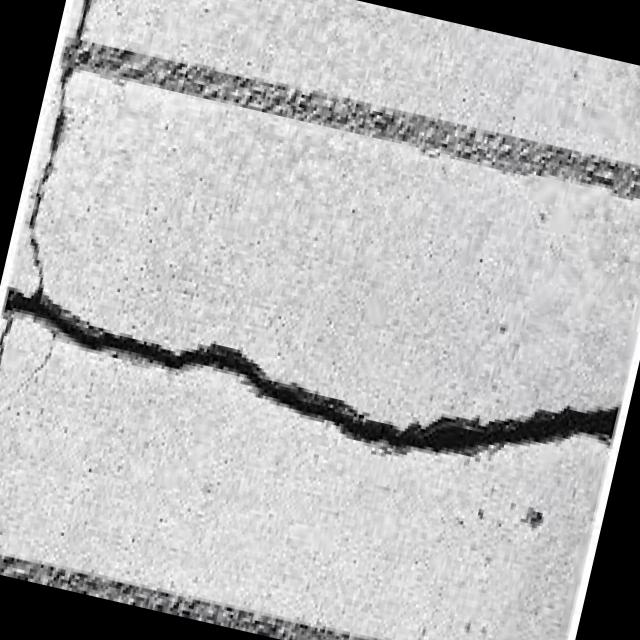crack: (0, 257, 617, 505), (8, 0, 119, 290), (0, 314, 15, 388)
